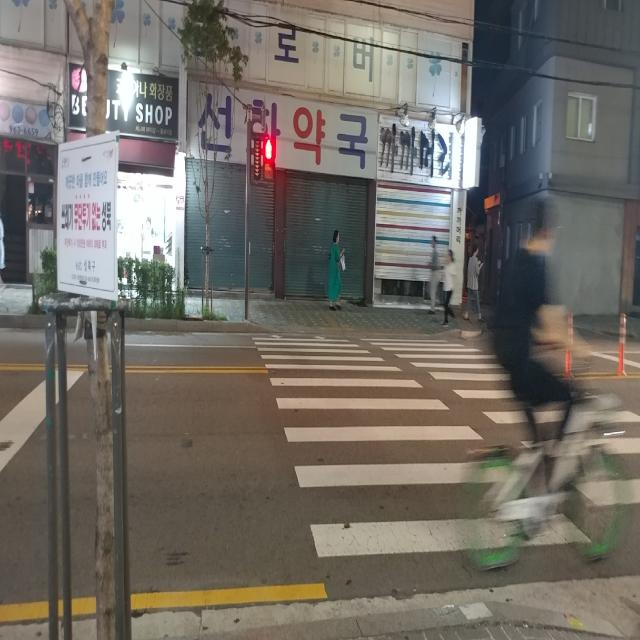빨간불: (263, 130, 276, 180)
횡단보도: (251, 335, 640, 557)
